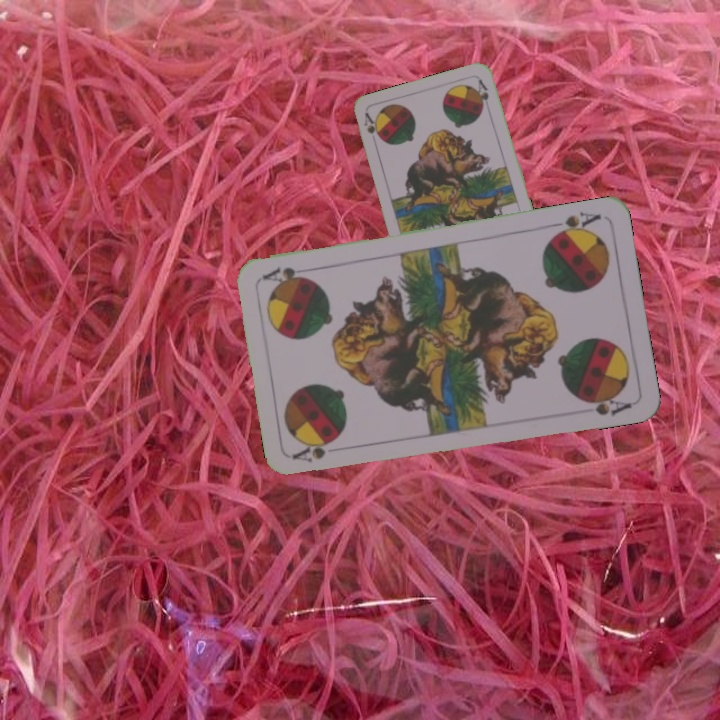SA: (545, 208, 604, 240), (289, 437, 337, 465), (360, 109, 382, 141)
